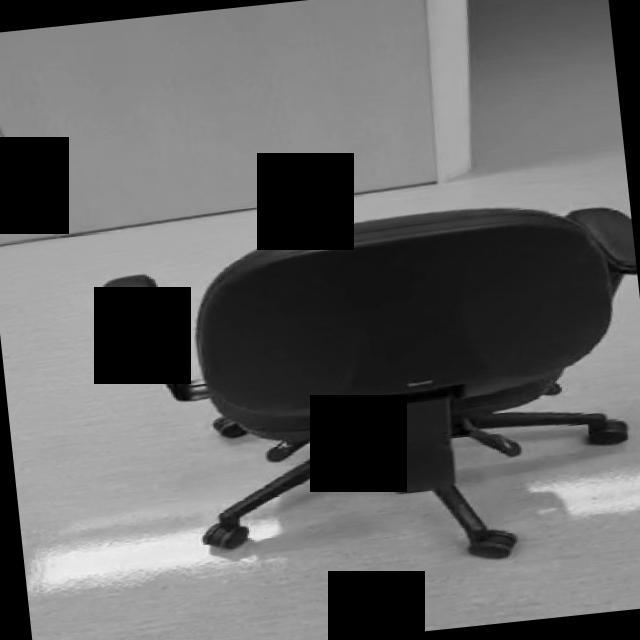chair: (90, 191, 640, 597)
